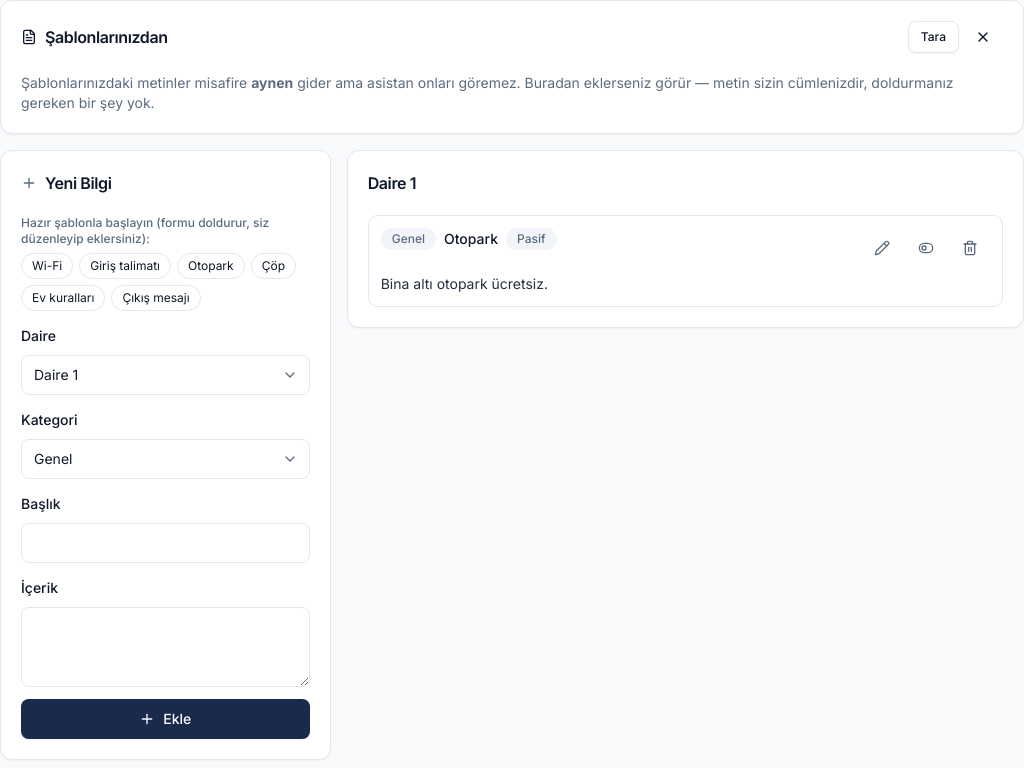
Scenario: KbManager — aktif/pasif geçişi geri bildirimi › aktifleştirme başarılıysa 'aktifleştirildi' toast'ı görünür
What coordinates should you click on to do the following:
click the button named "Aktifleştir"
I would click on:
 (926, 248)
Its box is [906, 228, 946, 268].
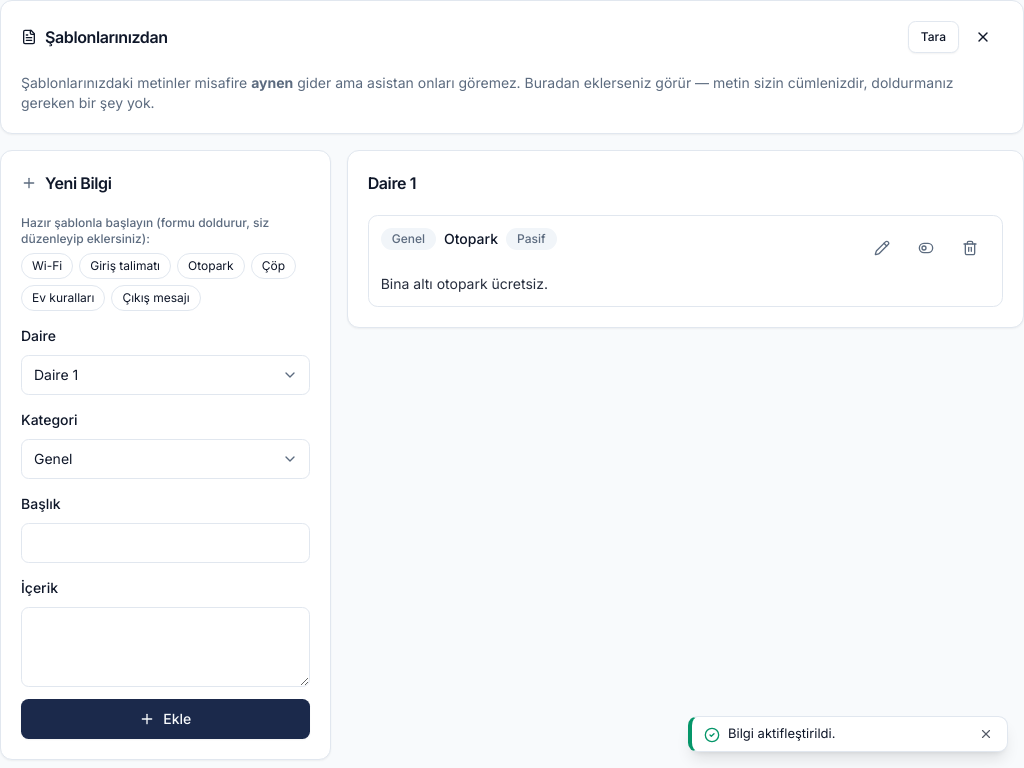
Result: the message shows "aktifleştirildi" at [728, 725, 835, 741]
